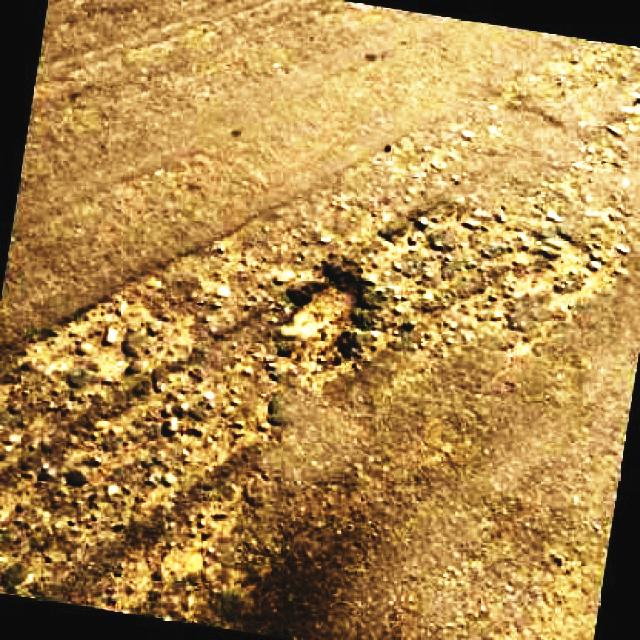pothole: (383, 197, 620, 311), (274, 251, 389, 369)
